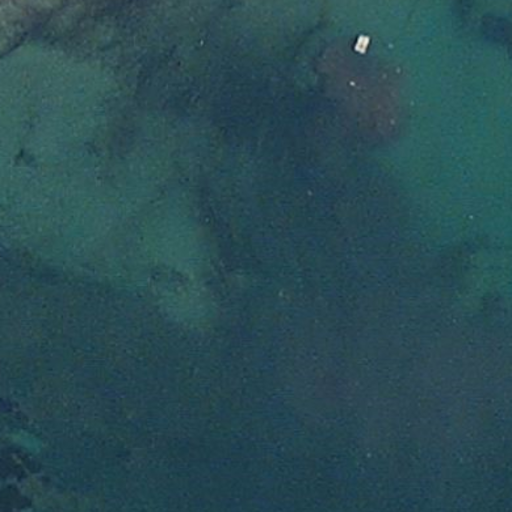ship: (353, 32, 372, 59)
